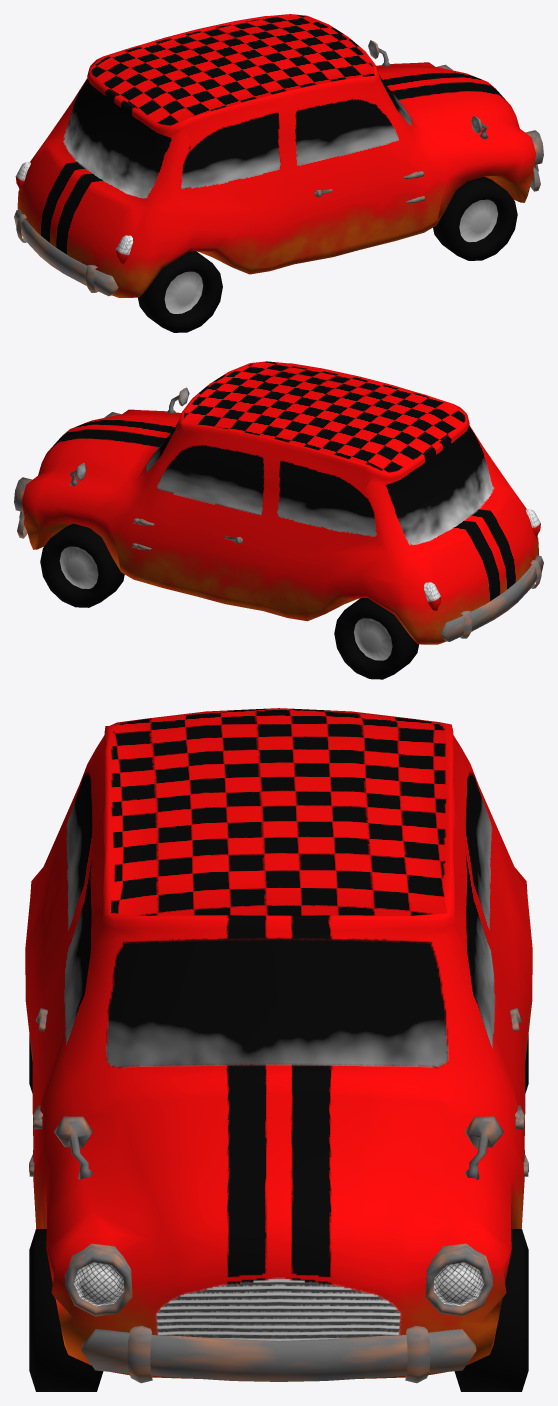
The model's file is carred.glb.
3 renders of one model, top to bottom at view 1: azimuth 30°, elevation 25°; view 2: azimuth 150°, elevation 25°; view 3: azimuth 270°, elevation 25°, orthographic. The views are drawn at different scales.
Parts seen in each view (by area): view 1: carred, lowpolywheel.029, lowpolywheel.030, Cube.022, backlight.007, RETROVISEURLOW.007; view 2: carred, lowpolywheel.032, lowpolywheel.031, Cube.022, backlight.007, RETROVISEURLOW.007; view 3: carred, Cube.023, lightinfront.007, lowpolywheel.029, lowpolywheel.032, RETROVISEURLOW.007, Cube.024.
Part boxes in pixels (bbox=[...]): carred: bbox=[17, 14, 536, 297]; lowpolywheel.029: bbox=[433, 176, 517, 260]; lowpolywheel.030: bbox=[138, 251, 222, 332]; Cube.022: bbox=[14, 209, 118, 296]; backlight.007: bbox=[15, 162, 132, 264]; RETROVISEURLOW.007: bbox=[368, 40, 488, 139]; carred: bbox=[21, 361, 538, 644]; lowpolywheel.032: bbox=[40, 523, 124, 607]; lowpolywheel.031: bbox=[334, 598, 418, 679]; Cube.022: bbox=[440, 555, 543, 641]; backlight.007: bbox=[424, 509, 540, 610]; RETROVISEURLOW.007: bbox=[69, 387, 189, 486]; carred: bbox=[25, 708, 532, 1378]; Cube.023: bbox=[81, 1326, 476, 1383]; lightinfront.007: bbox=[65, 1243, 492, 1316]; lowpolywheel.029: bbox=[29, 1229, 103, 1391]; lowpolywheel.032: bbox=[454, 1229, 528, 1391]; RETROVISEURLOW.007: bbox=[54, 1116, 503, 1180]; Cube.024: bbox=[29, 1008, 528, 1176].
Size of the model in its own units: 8.13 by 3.46 by 3.93.
Materials: 1 (1 with a texture image).
